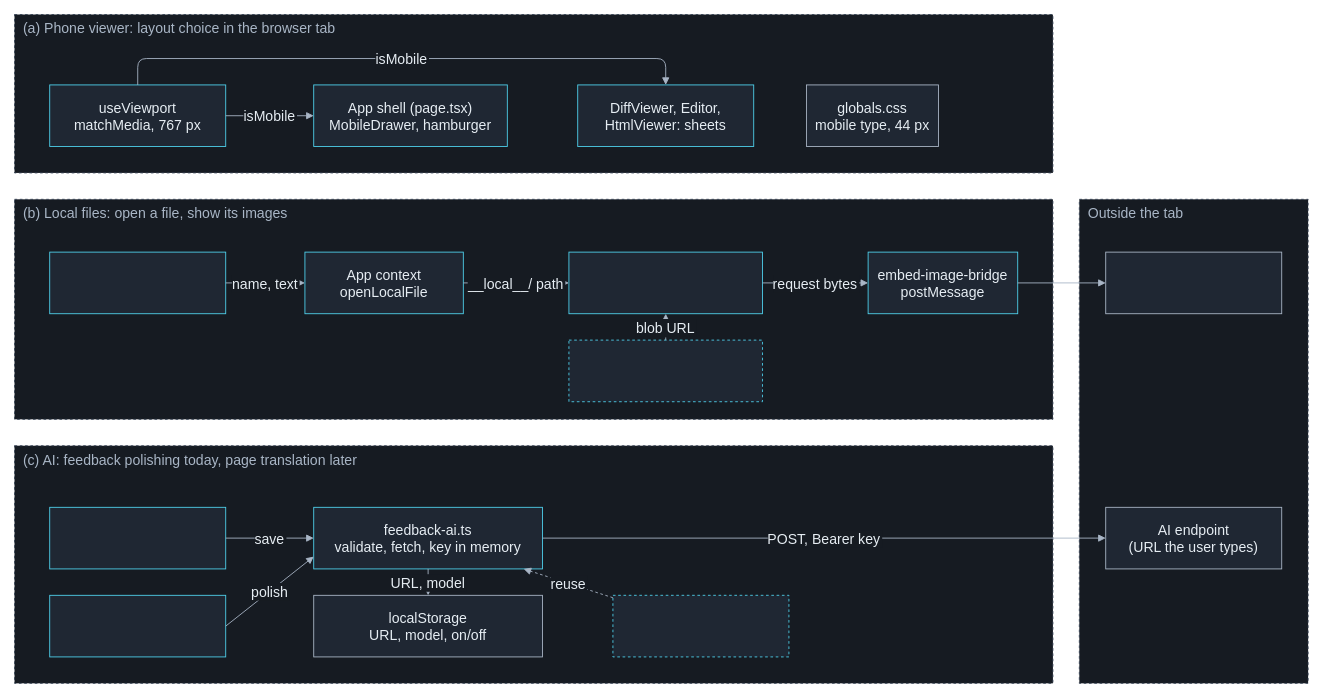
Some shapes in this 1323 by 698 pixel diagram are drawn without their labels. The shapes that lost their labels are listed below. From the top down, each one's centre as x and y in pixels, then its label:
At point 137,282: "Sidebar file input, one file".
At point 665,282: "loadEmbedLocalImages (github-api.ts)".
At point 1193,282: "VS Code extension (reads workspace)".
At point 665,370: "Folder source (proposed, 042)".
At point 137,537: "FeedbackAISettings URL, model, key".
At point 137,625: "FeedbackPolisher comment and review boxes".
At point 700,625: "Translate action (proposed, 037)".
